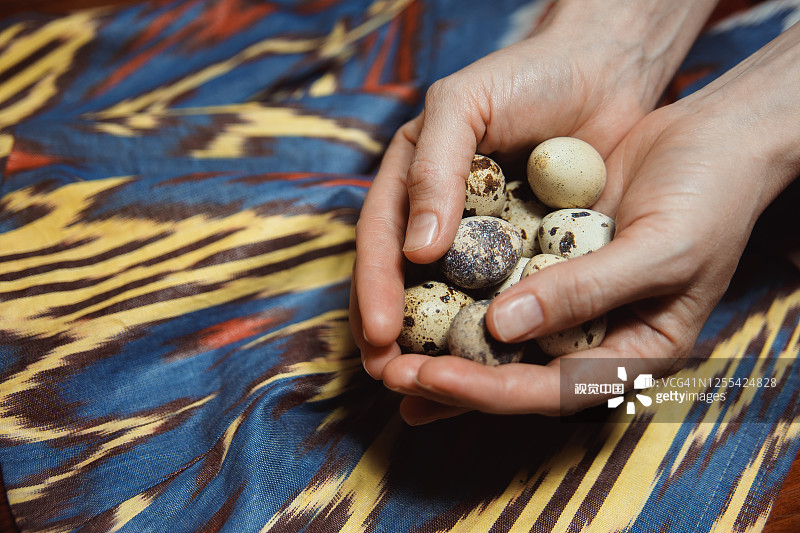no-phone: (378, 113, 796, 422), (339, 13, 628, 345)
